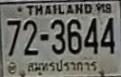2: (24, 20, 37, 54)
3: (50, 19, 65, 54)
4: (100, 17, 114, 53), (84, 17, 97, 53)
6: (66, 18, 80, 53)
7: (6, 20, 20, 56)
SPK: (24, 58, 100, 76)
